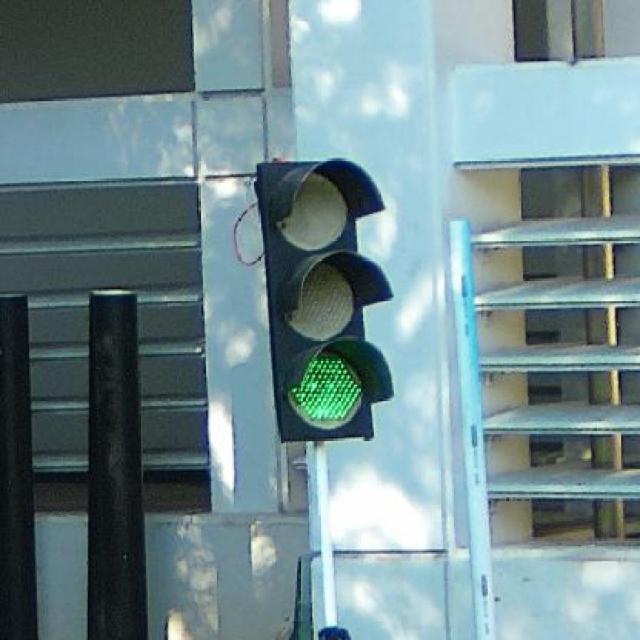green: (255, 159, 394, 450)
